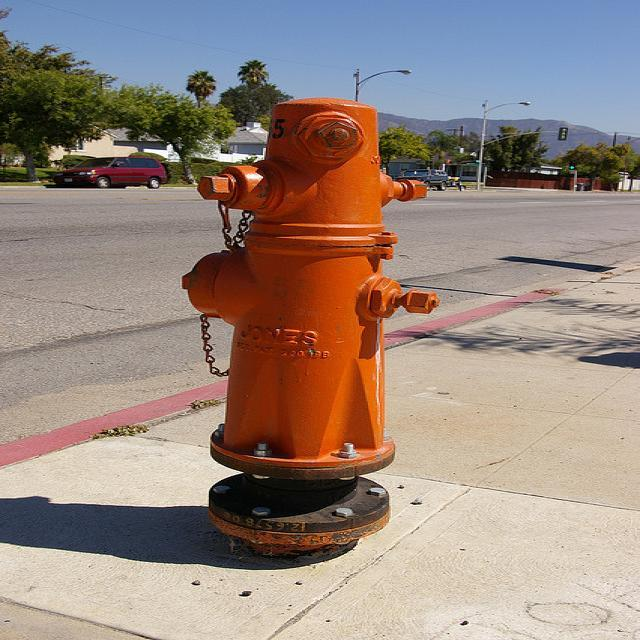fire_hydrant: (184, 97, 450, 560)
